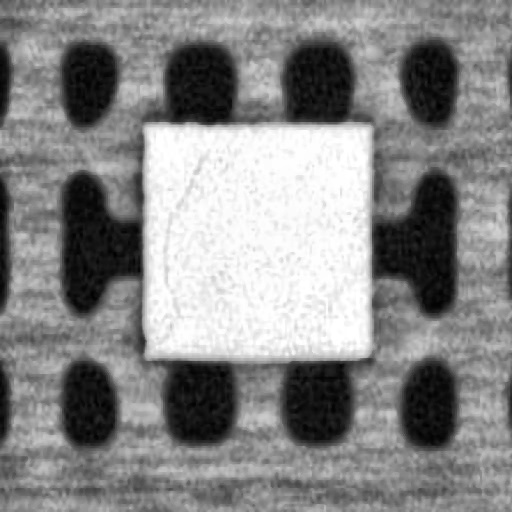DIE_CRACK: (159, 144, 204, 318)
